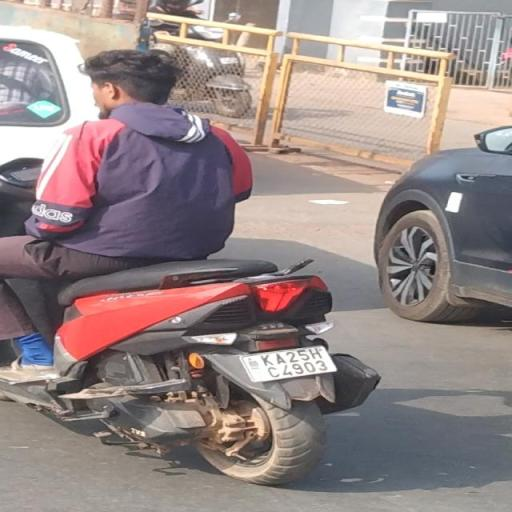bike: (8, 44, 382, 488)
numberplate: (242, 336, 340, 386)
withouthelmet: (91, 50, 172, 108)
